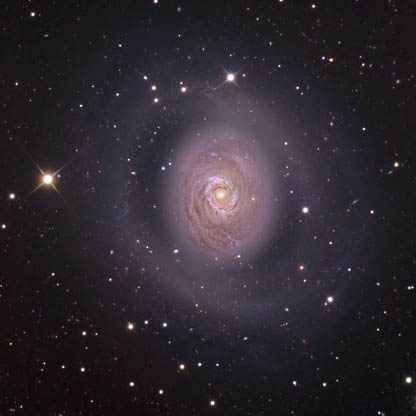Messier 94: (95, 61, 376, 343)
